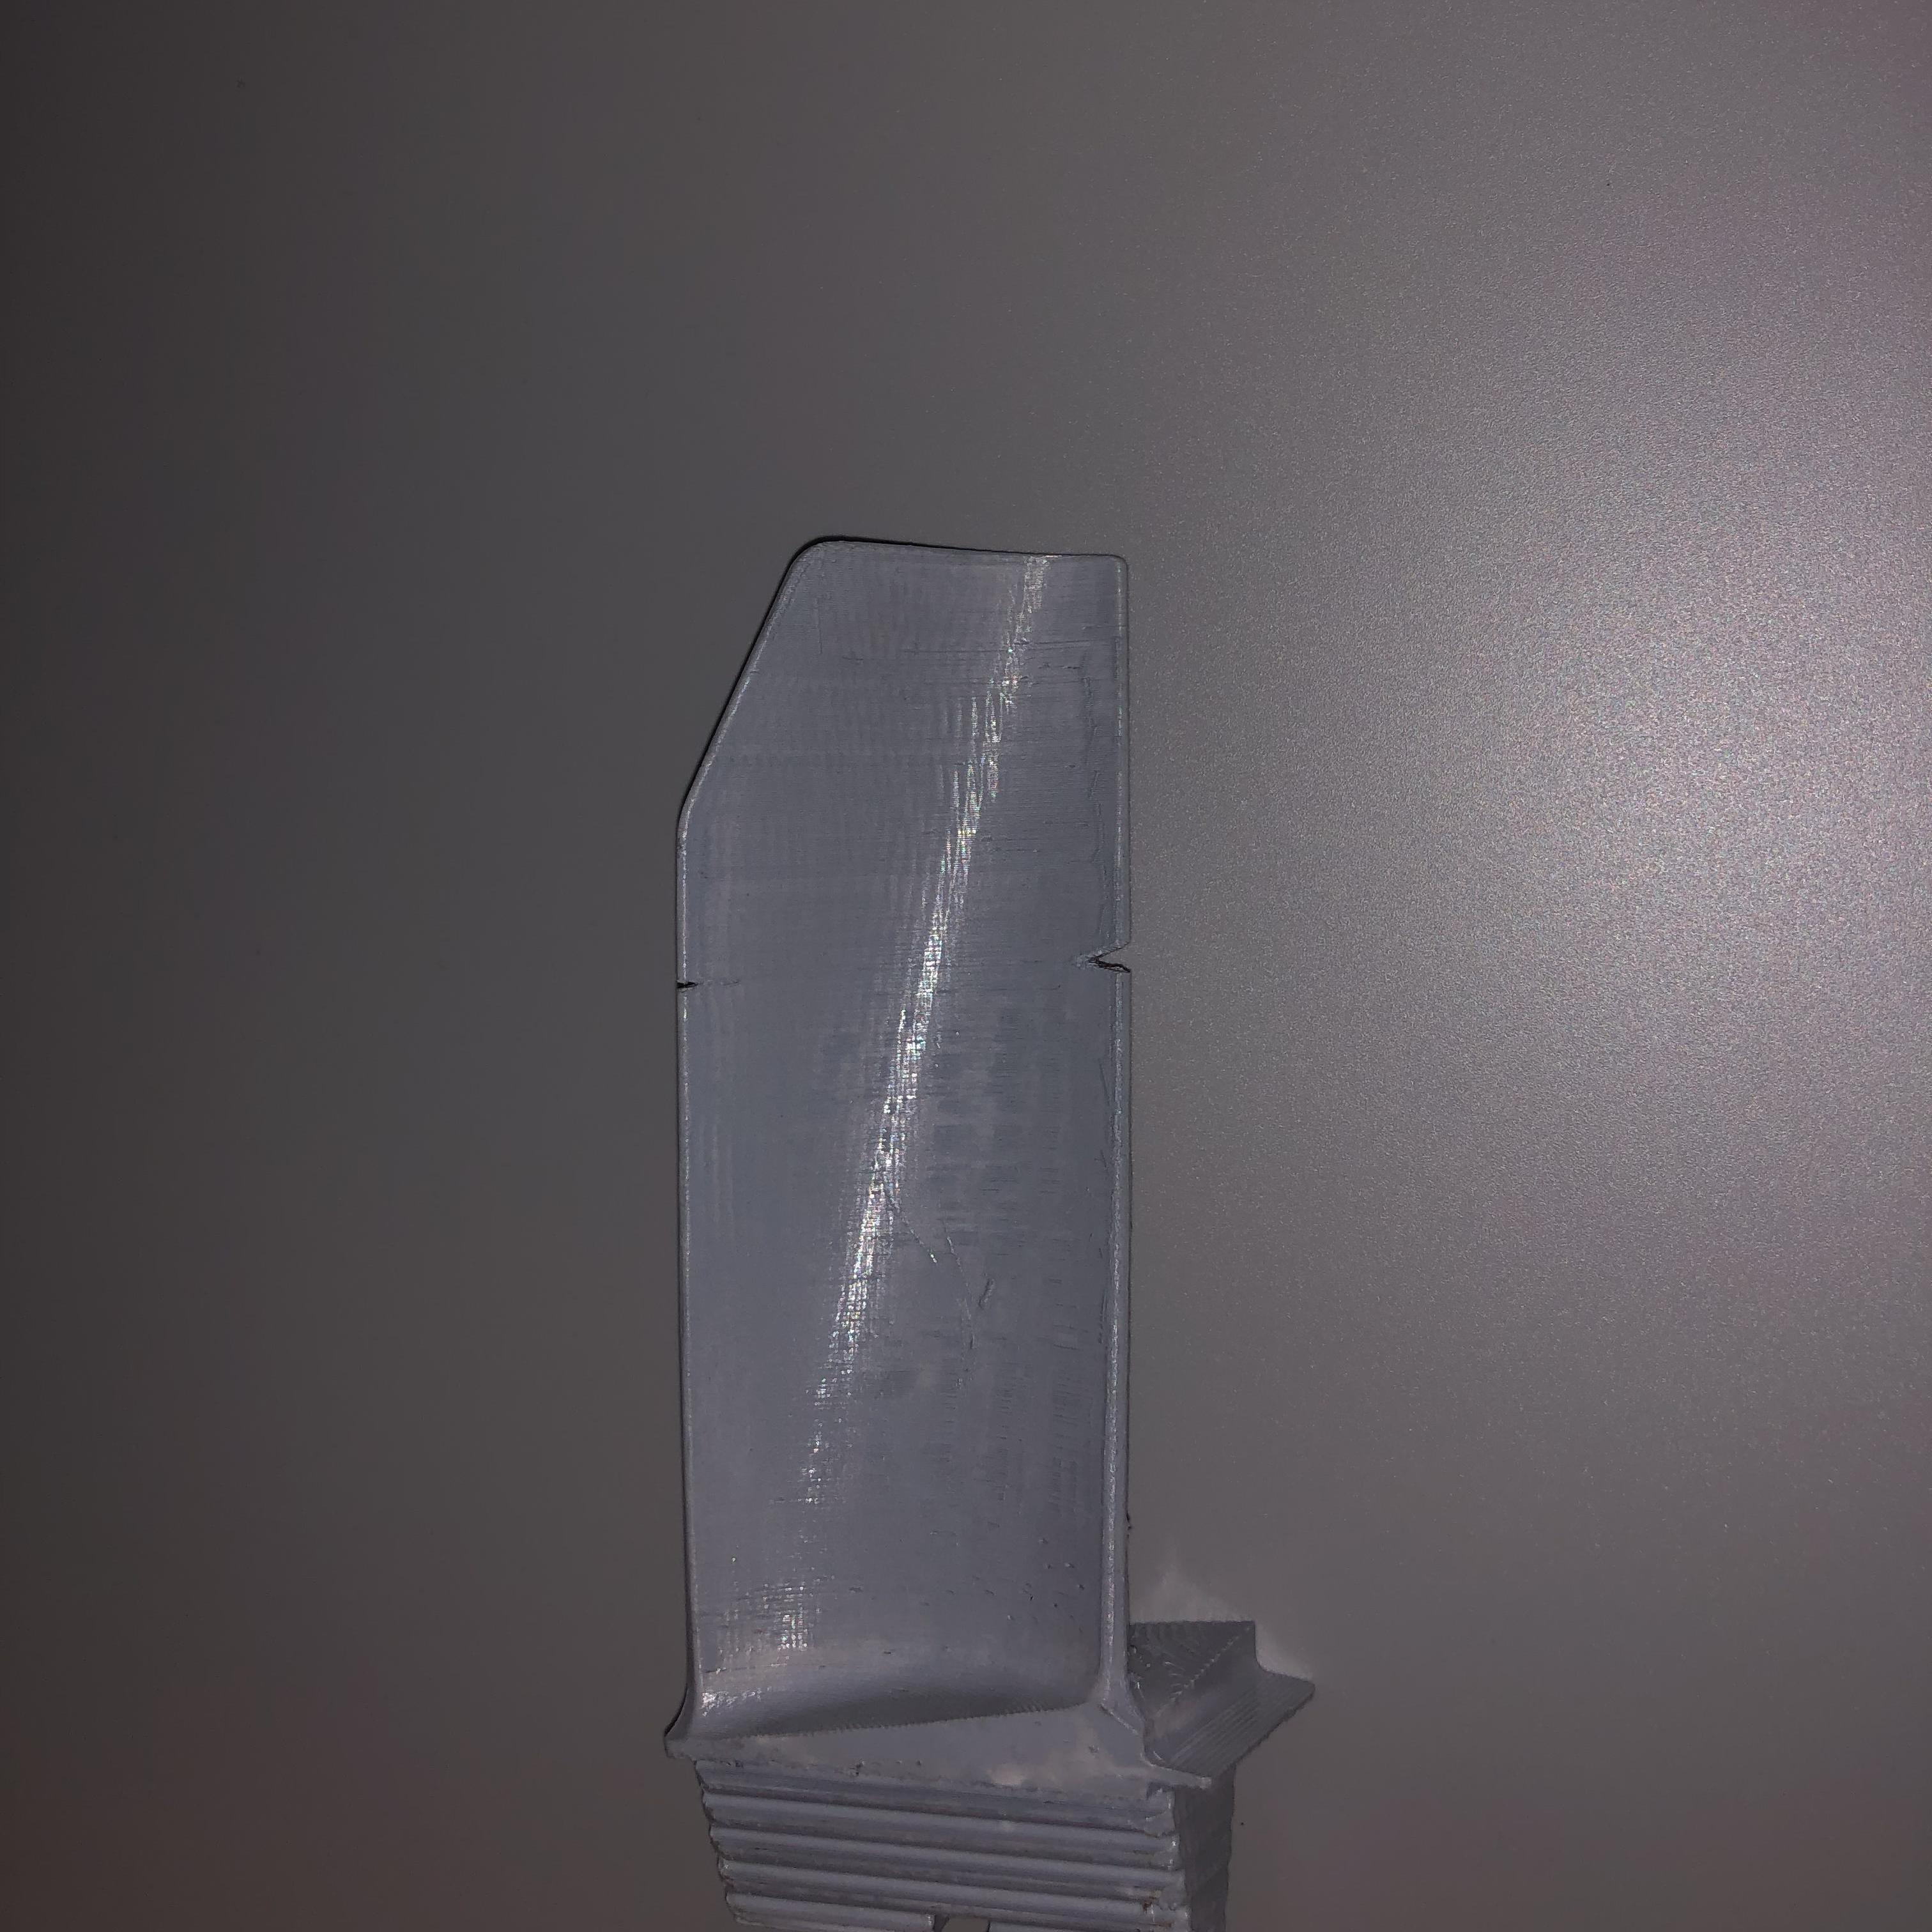groove: (1085, 941, 1134, 973), (676, 968, 711, 1005)
